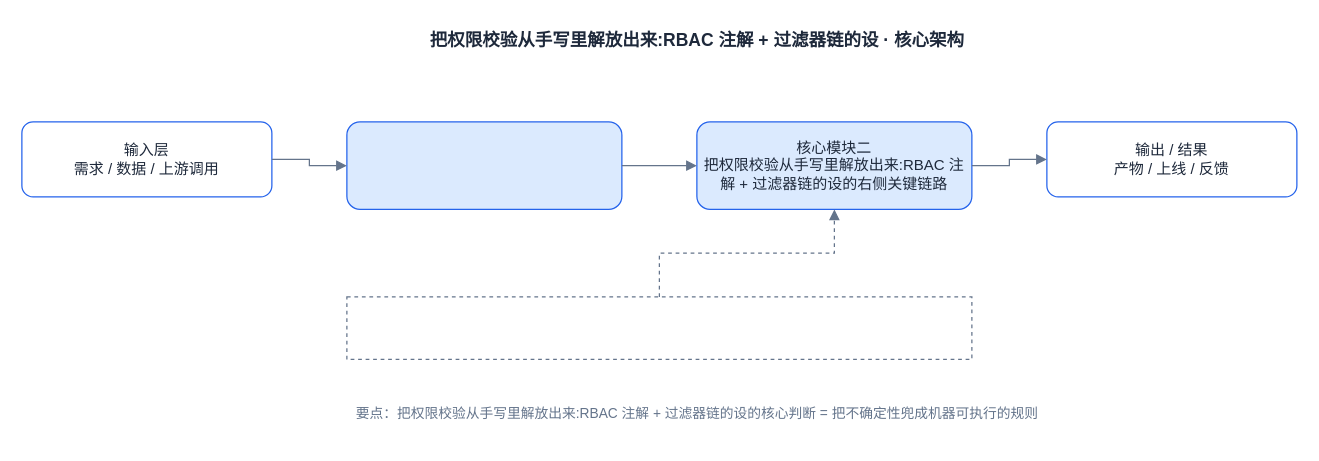
Image size: 1319x461. Some labels were removed from this diagram. The centre of each missing label's shape, as x and y in pixels:
"兜底层 质量 / 安全 / 监控 / 评审" belongs at point (659, 327).
"核心模块一 把权限校验从手写里解放出来:RBAC 注解 + 过滤器链的设的左侧关键链路" belongs at point (484, 165).
